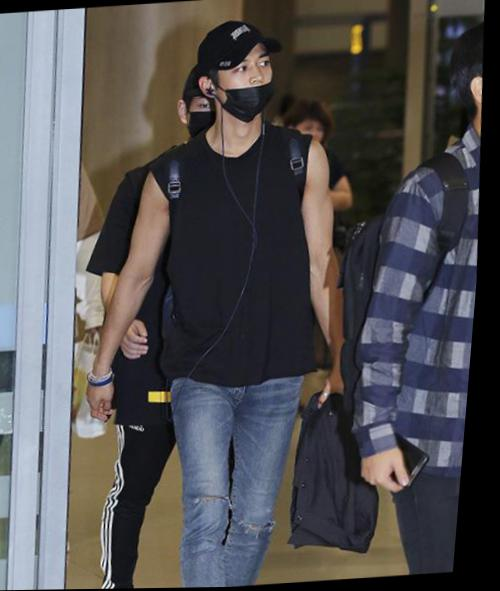OK: (185, 88, 235, 144)
WRONG: (208, 48, 280, 117)
